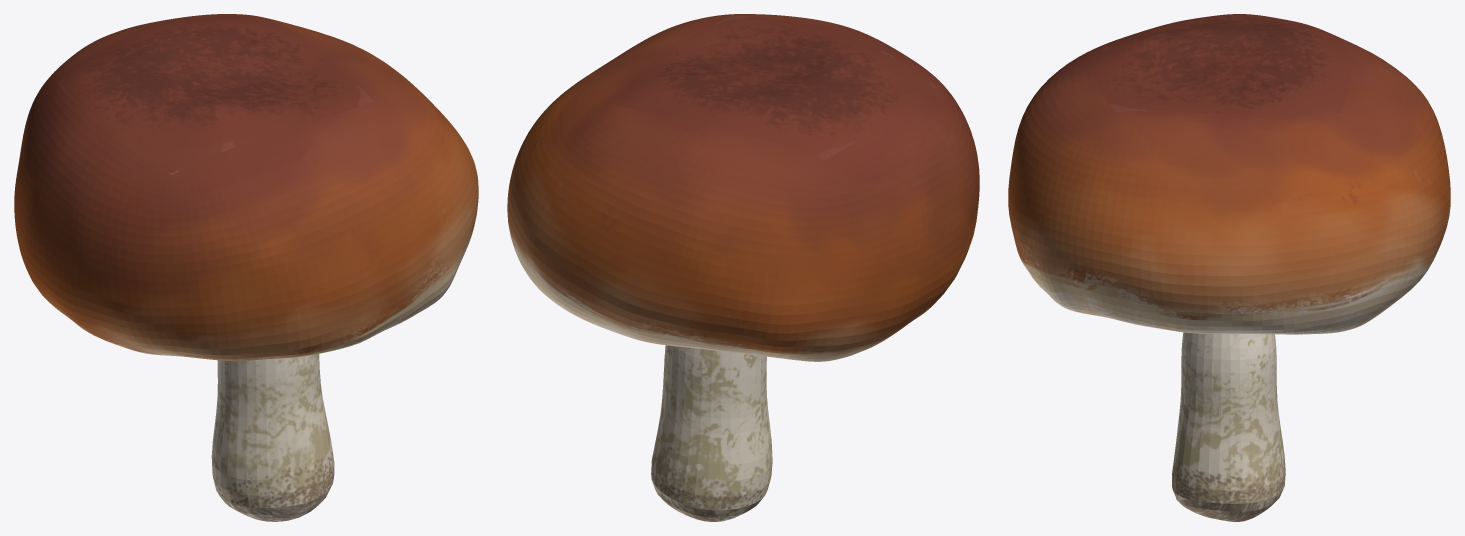
The model's file is king bolete-higher poly.glb.
3 renders of one model, left to right at view 1: azimuth 30°, elevation 25°; view 2: azimuth 150°, elevation 25°; view 3: azimuth 270°, elevation 25°, orthographic. The views are drawn at different scales.
Parts seen in each view (by area): view 1: king bolete; view 2: king bolete; view 3: king bolete.
Part boxes in pixels (x1,y1,x2,y2): king bolete: (14,14,478,521); king bolete: (507,14,979,521); king bolete: (1008,14,1450,521).
Size of the model in its own units: 0.3996 by 0.4345 by 0.4017.
Materials: 1 (1 with a texture image).
